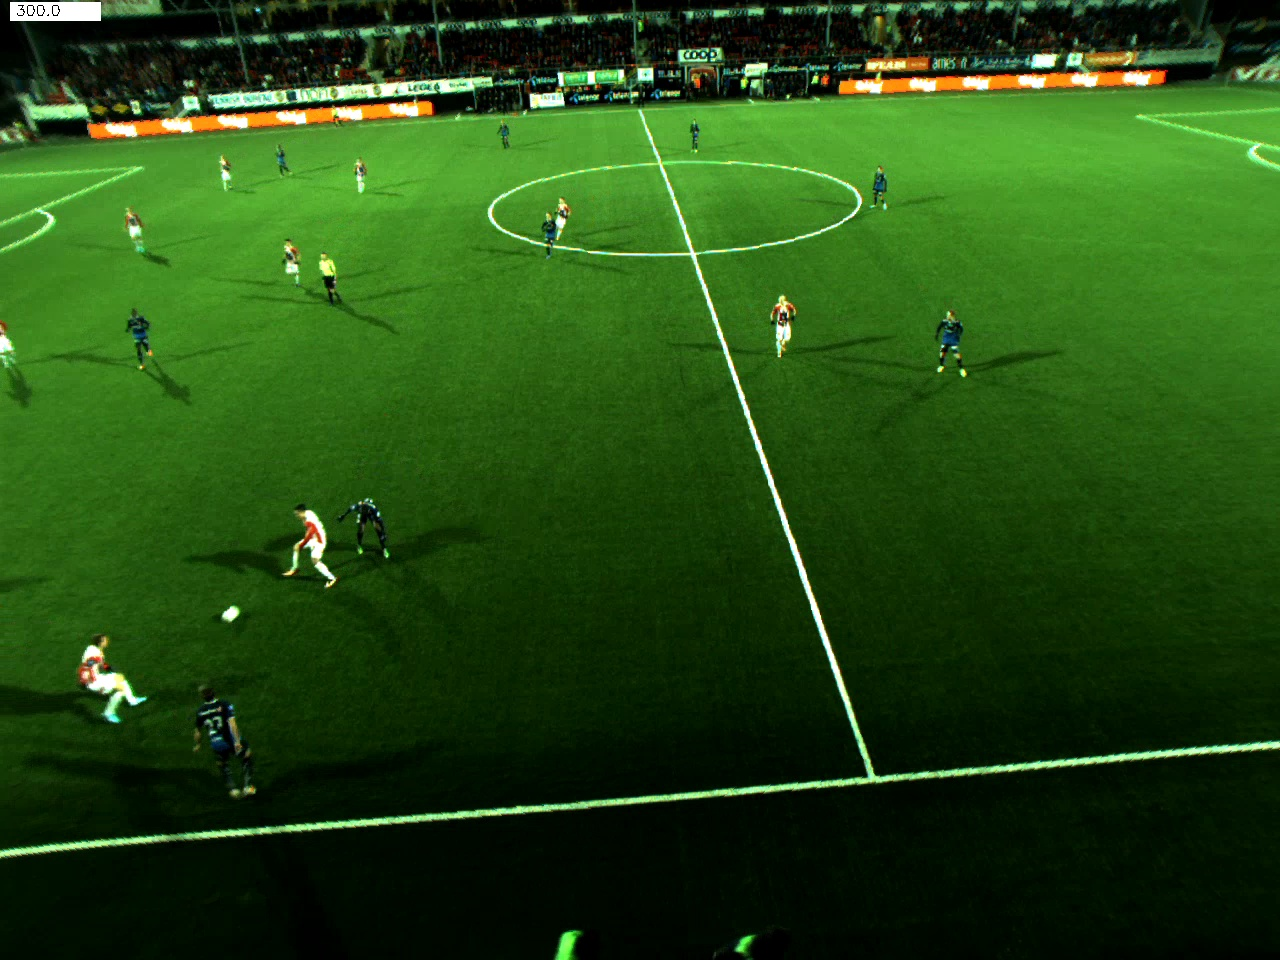blue: (187, 681, 267, 807), (339, 494, 401, 574), (931, 302, 983, 389), (116, 301, 158, 381), (863, 162, 894, 209), (488, 117, 523, 153), (264, 142, 296, 174), (538, 209, 558, 259), (687, 119, 702, 149)
red: (76, 632, 153, 735), (276, 489, 342, 599), (767, 288, 803, 364), (114, 205, 155, 263), (274, 238, 305, 292), (214, 146, 238, 199), (351, 148, 374, 202), (551, 196, 574, 244)
